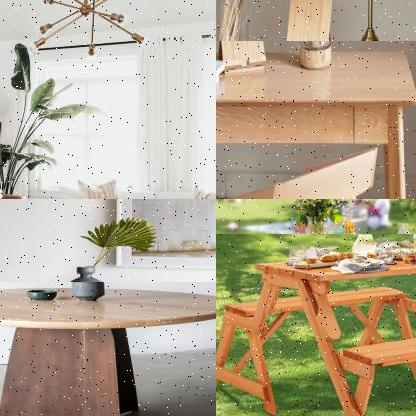table: (216, 234, 415, 415), (216, 41, 415, 198), (0, 282, 215, 415)
